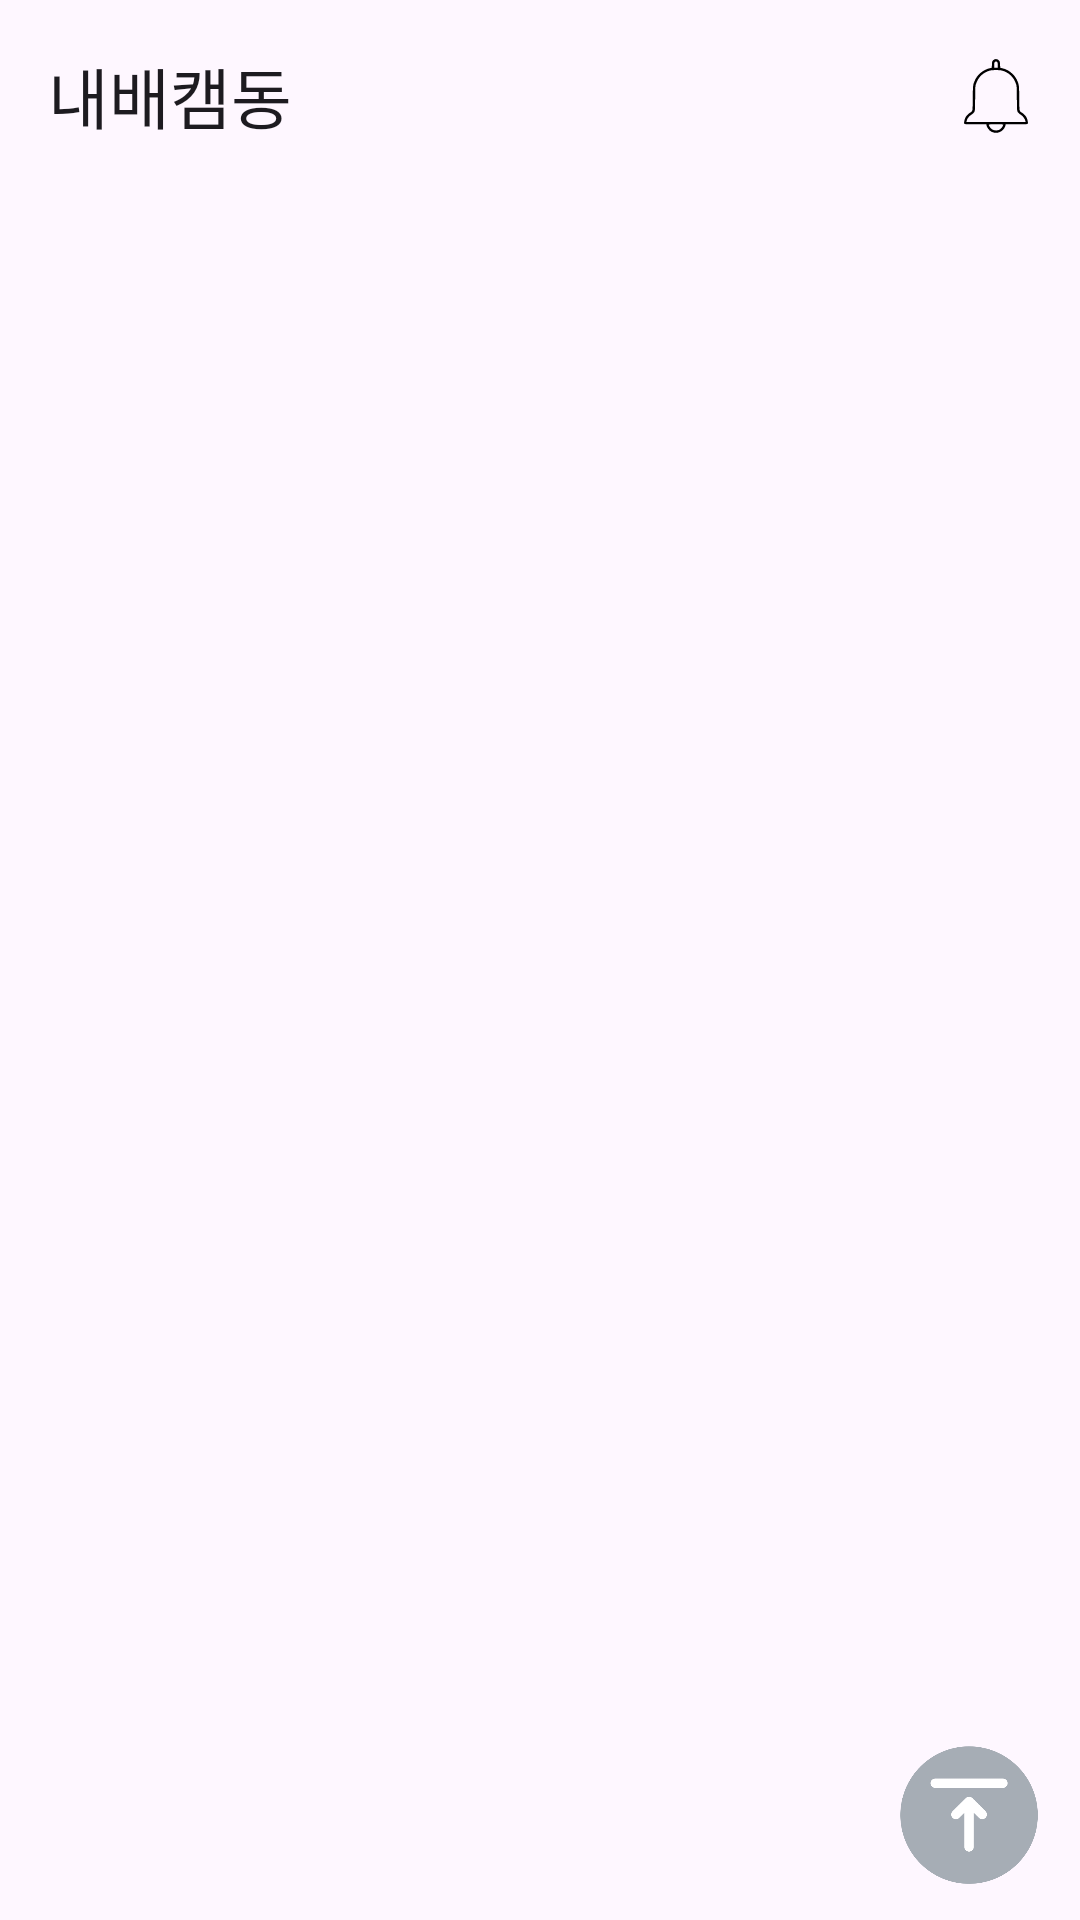

Where icons sit on this 1080 x 1920 app screen, as region(x1, y1, x2, y2):
top state: region(900, 1746, 1038, 1884)
